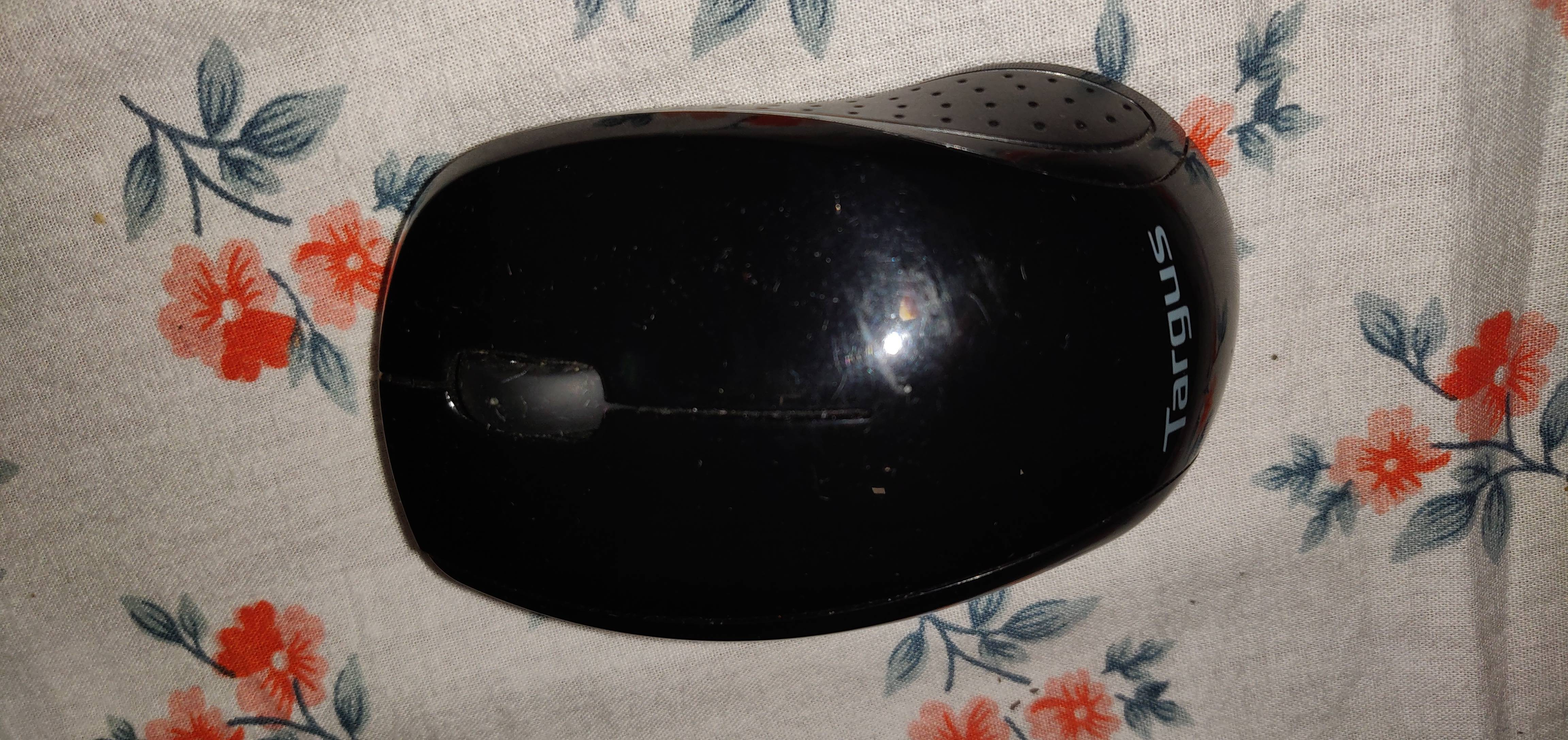Electronics: (334, 40, 1289, 654)
